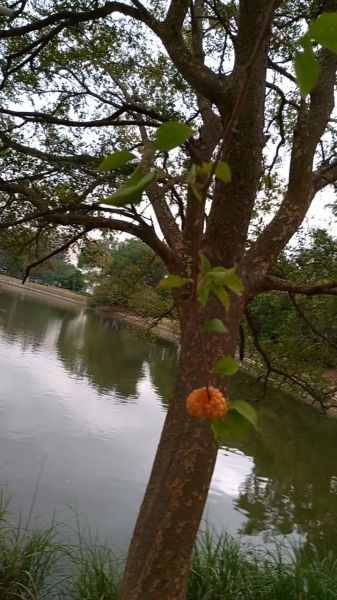eggs: (180, 382, 237, 424)
